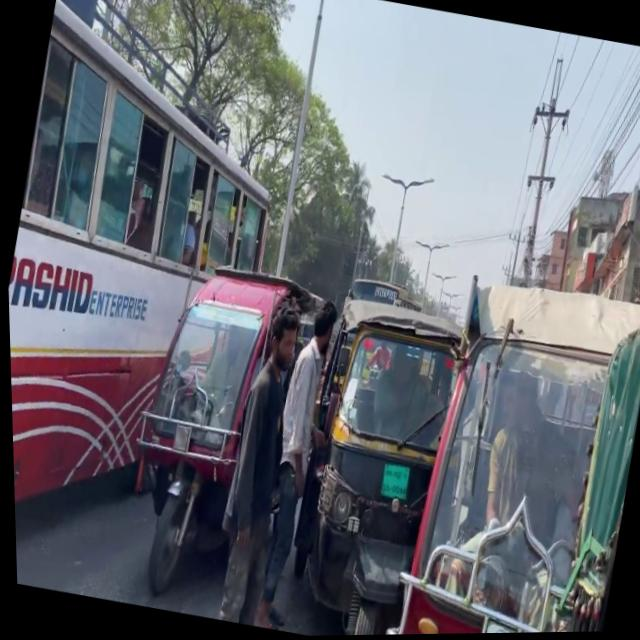Construction-barrier: (7, 319, 172, 547), (383, 569, 572, 636), (7, 318, 167, 388)
Garbage-bin: (195, 300, 319, 628), (235, 295, 347, 632)
Light-pole: (264, 0, 337, 278)
Traffic-cone: (0, 0, 315, 564), (279, 269, 640, 637), (99, 252, 339, 619)
